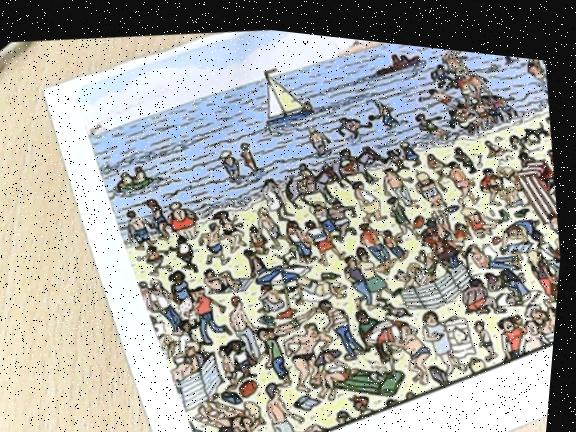waldo: (422, 213, 452, 239)
